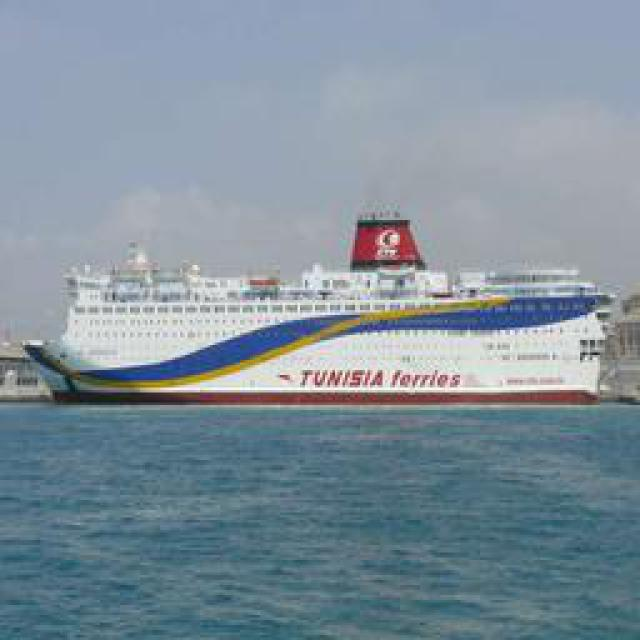Ship: (34, 229, 604, 404)
